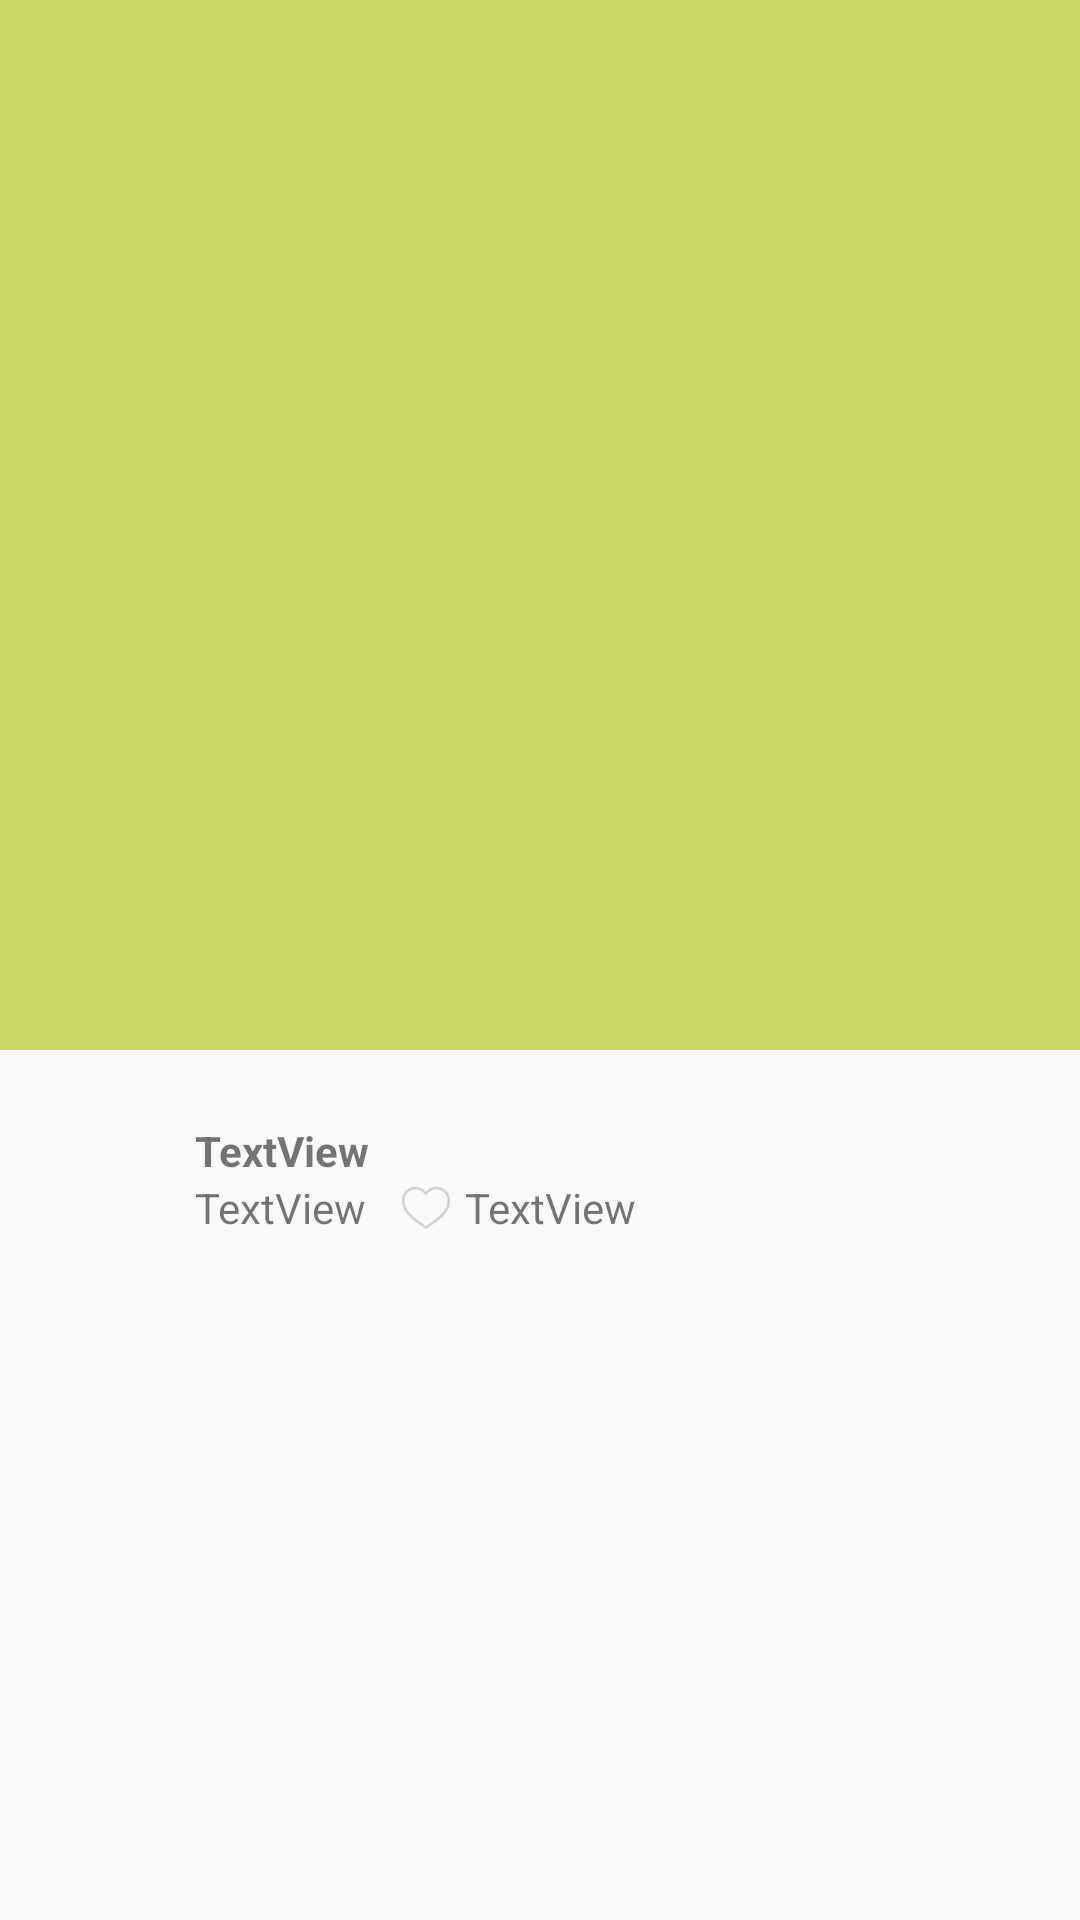

Named icons in this screenshot (1080 × 1920) and their bounding boxes, (x1, y1, x2, y2):
heart: (402, 1187, 450, 1229)
